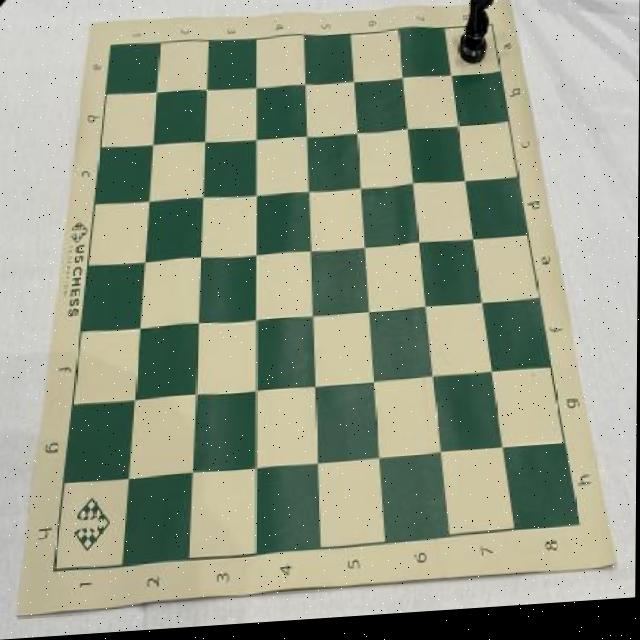black-king: (458, 0, 496, 73)
